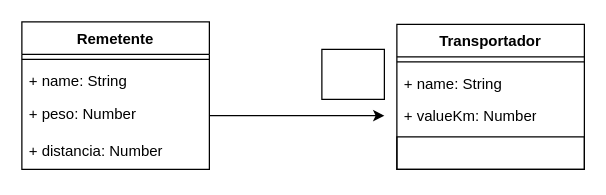
The diagram is 606 pixels wide and 195 high, and some of its shapes have lost their labels. Each missing label, with the centre of its shape:
+ frete(valueKm): number: pixel 490 152
N.1: pixel 352 73
